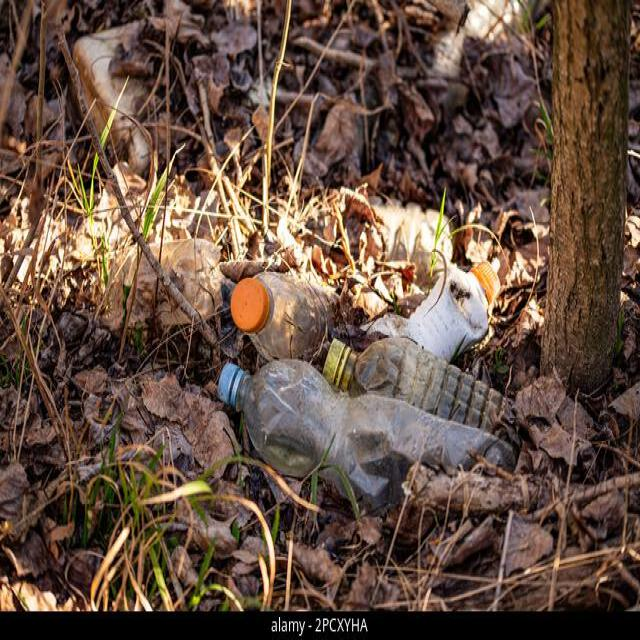plastic: (189, 260, 494, 497)
